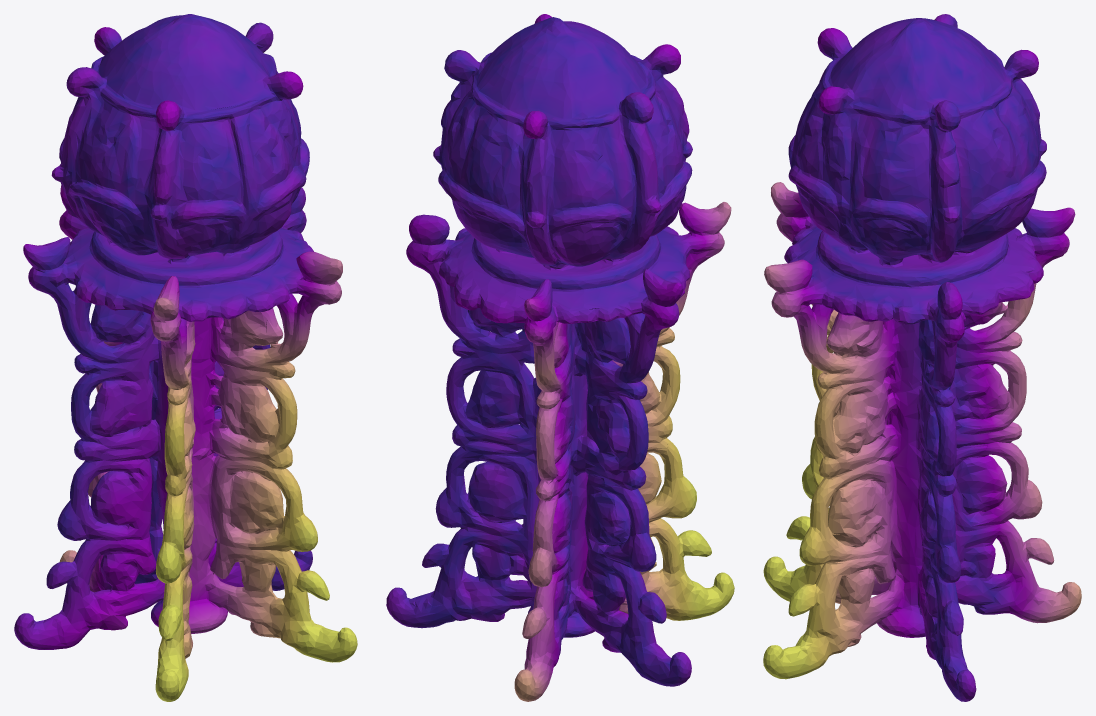
Rendered from iter_10.glb.
3 views of the same model, side by side, from view 1: azimuth 30°, elevation 25°; view 2: azimuth 150°, elevation 25°; view 3: azimuth 270°, elevation 25° (orthographic).
Visible parts, largest first — view 1: textured_mesh; view 2: textured_mesh; view 3: textured_mesh.
Boxes of the visible parts, box(x1,y1,x2,y2) form: textured_mesh: box(14, 14, 357, 701); textured_mesh: box(386, 14, 734, 701); textured_mesh: box(763, 14, 1081, 701).
Bounding box in the file's own units: 1.01 × 1.99 × 0.9304.
